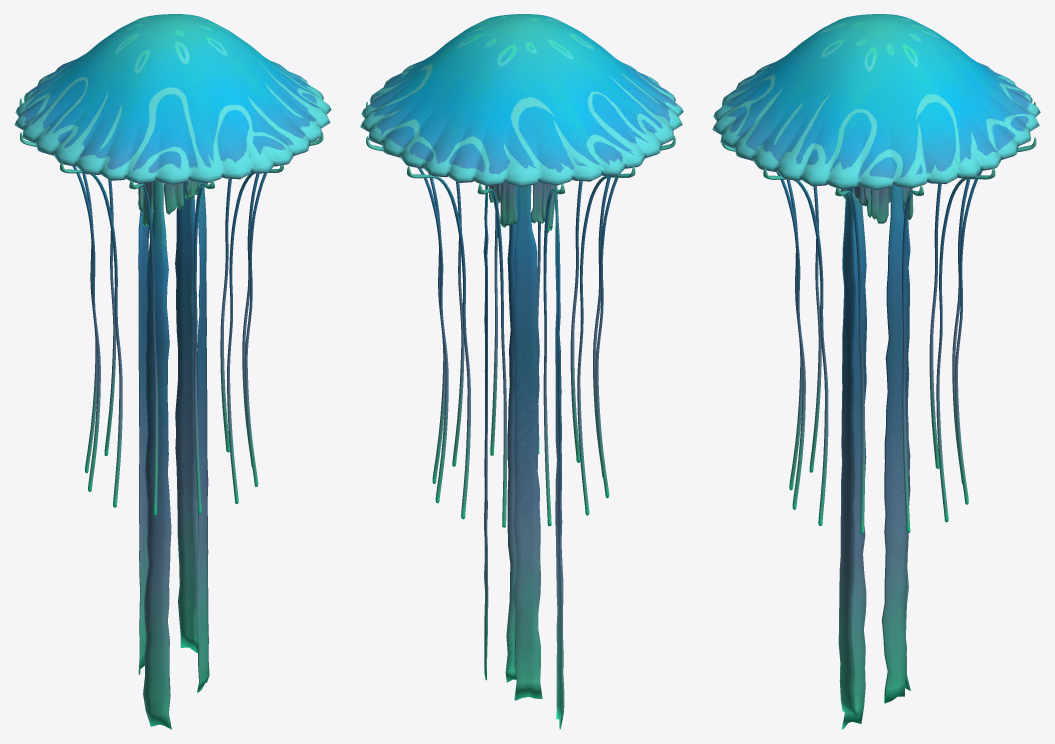
The model's file is medusa.fbx.
The picture shows the model from 3 angles, left to right: view 1: azimuth 30°, elevation 25°; view 2: azimuth 150°, elevation 25°; view 3: azimuth 270°, elevation 25°; orthographic projection. The views are drawn at different scales.
Visible parts, largest first — view 1: Object02_01 - Default_0, Object004_03 - Default_0; view 2: Object004_03 - Default_0, Object02_01 - Default_0; view 3: Object004_03 - Default_0, Object02_01 - Default_0.
Boxes of the visible parts, x1,y1,x2,y2 form: Object02_01 - Default_0: [19, 98, 323, 729]; Object004_03 - Default_0: [14, 14, 331, 184]; Object004_03 - Default_0: [360, 14, 683, 186]; Object02_01 - Default_0: [366, 101, 675, 729]; Object004_03 - Default_0: [712, 14, 1040, 190]; Object02_01 - Default_0: [721, 101, 1036, 729].
Bounding box in the file's own units: 86.04 × 211 × 87.51.
Materials: 2 (2 with a texture image).
